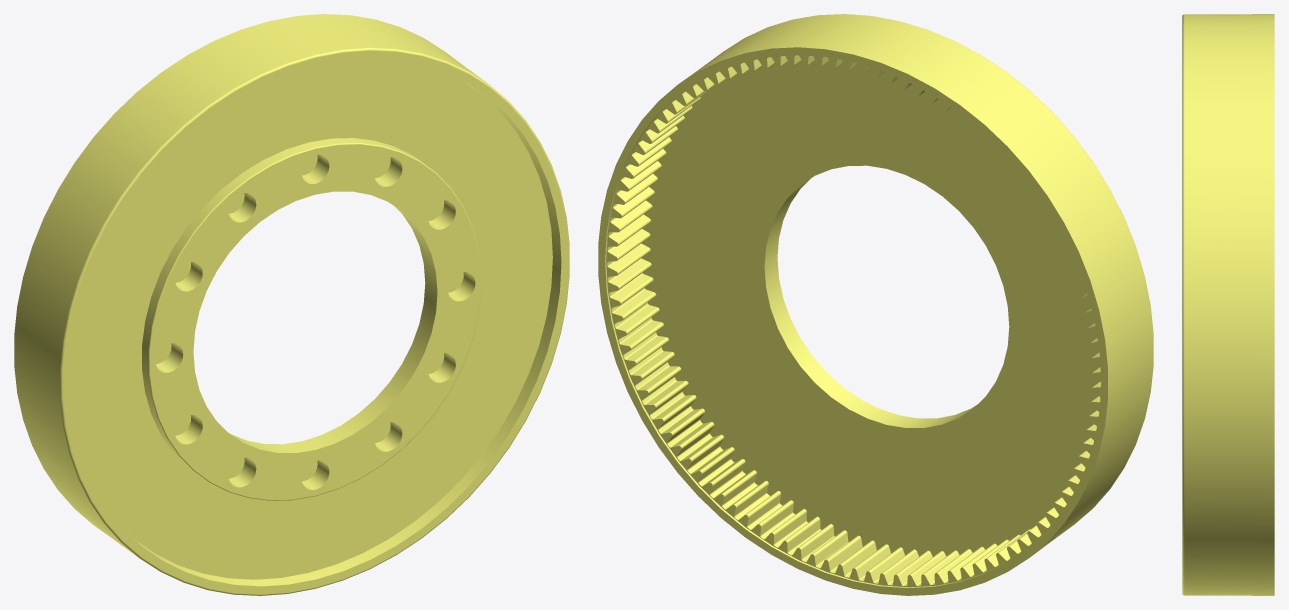
File: Precision Internal Gear.gltf
3 views of the same model, side by side, from view 1: azimuth 30°, elevation 25°; view 2: azimuth 150°, elevation 25°; view 3: azimuth 270°, elevation 25° (orthographic).
Visible parts, largest first — view 1: 2 (2.19.17); view 2: 2 (2.19.17); view 3: 2 (2.19.17).
Boxes of the visible parts, x1,y1,x2,y2 form: 2 (2.19.17): (14, 14, 569, 595); 2 (2.19.17): (598, 14, 1153, 595); 2 (2.19.17): (1182, 14, 1274, 595).
Size of the model in its own units: 0.2454 by 0.2455 by 0.039.
